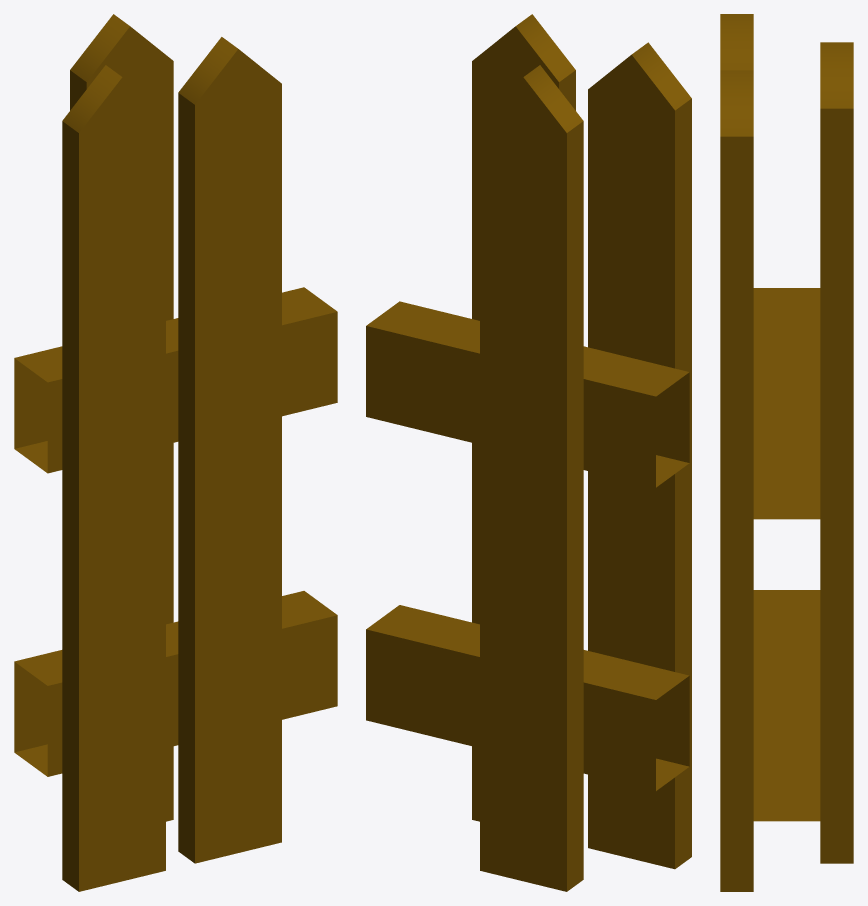
The model's file is Fence_02.fbx.
The picture shows the model from 3 angles, left to right: view 1: azimuth 30°, elevation 25°; view 2: azimuth 150°, elevation 25°; view 3: azimuth 270°, elevation 25°; orthographic projection.
Visible parts, largest first — view 1: FencePiece_02; view 2: FencePiece_02; view 3: FencePiece_02.
Part boxes in pixels (box(x1,y1,x2,y2)): FencePiece_02: box(14, 14, 337, 891); FencePiece_02: box(366, 14, 691, 891); FencePiece_02: box(720, 14, 853, 891).
Size of the model in its own units: 1 by 2.65 by 0.4.
